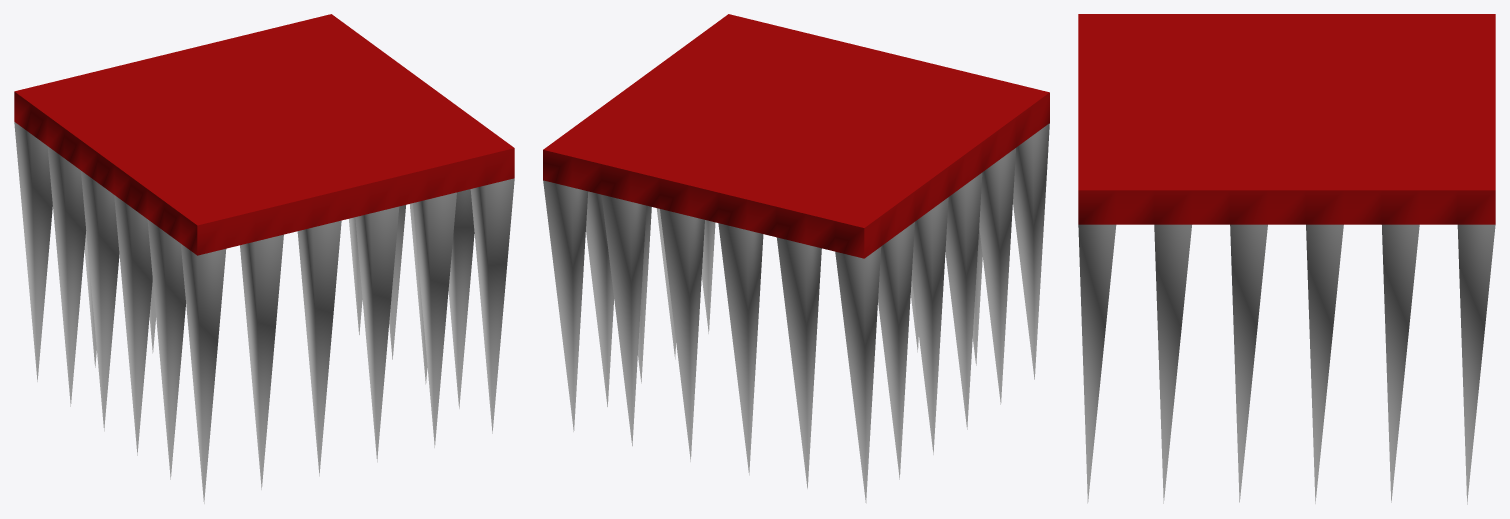
The model's file is CageTop.fbx.
3 renders of one model, left to right at view 1: azimuth 30°, elevation 25°; view 2: azimuth 150°, elevation 25°; view 3: azimuth 270°, elevation 25°, orthographic. The views are drawn at different scales.
Visible parts, largest first — view 1: pCube1; view 2: pCube1; view 3: pCube1.
Part boxes in pixels (x1,y1,x2,y2): pCube1: (14,14,514,503); pCube1: (543,14,1049,503); pCube1: (1078,14,1495,504).
Size of the model in its own units: 11 by 9.45 by 11.
